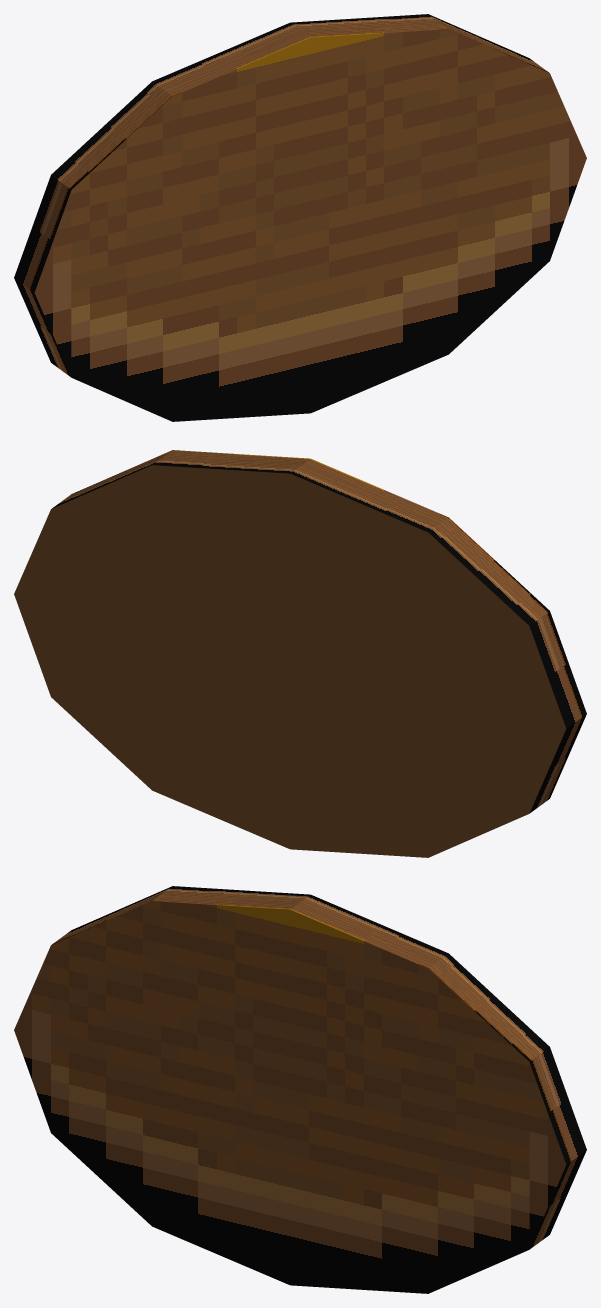
The model's file is fish_trophy_mount.glb.
3 views of the same model, one above another, from view 1: azimuth 30°, elevation 25°; view 2: azimuth 150°, elevation 25°; view 3: azimuth 330°, elevation 25° (orthographic).
Visible parts, largest first — view 1: Trophy_Plaque; view 2: Trophy_Plaque; view 3: Trophy_Plaque.
Boxes of the visible parts, x1,y1,x2,y2 form: Trophy_Plaque: [14, 14, 586, 421]; Trophy_Plaque: [14, 450, 586, 857]; Trophy_Plaque: [14, 886, 586, 1293].
Size of the model in its own units: 1.24 by 0.806 by 0.08.
1 material, 1 textured.
